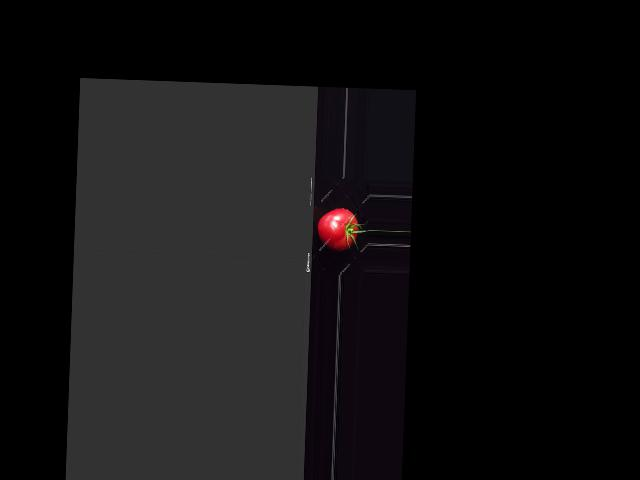tomato: (316, 207, 358, 251)
